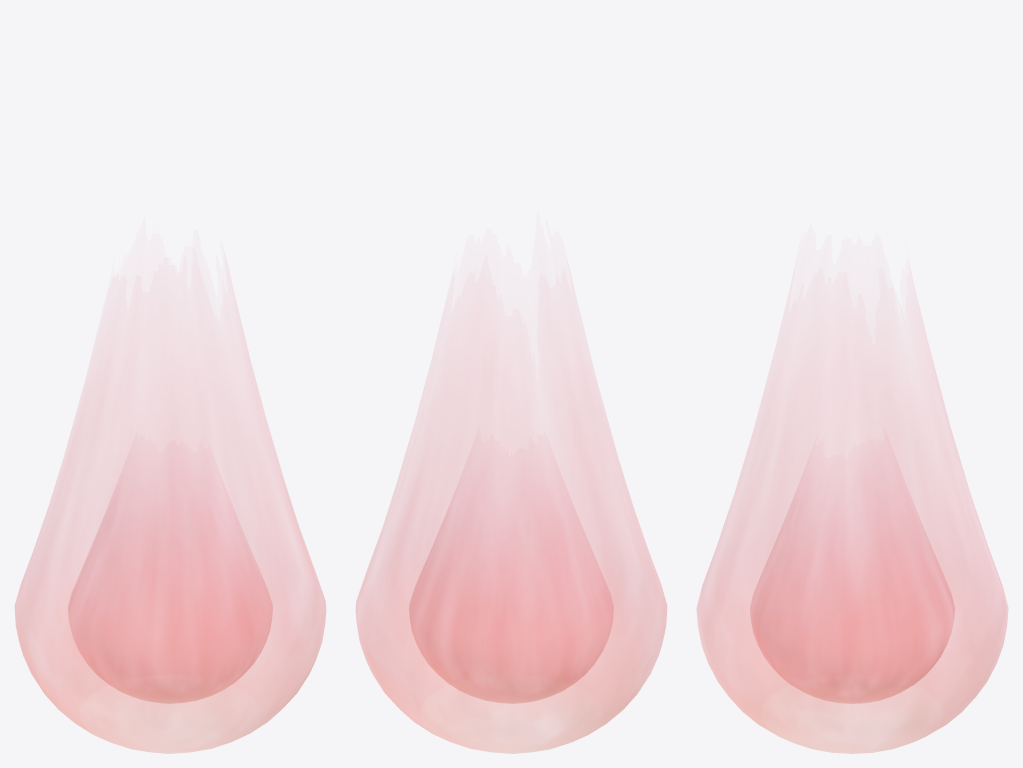
File: head_crimson.glb
3 views of the same model, side by side, from view 1: azimuth 30°, elevation 25°; view 2: azimuth 150°, elevation 25°; view 3: azimuth 270°, elevation 25° (orthographic).
Visible parts, largest first — view 1: head; view 2: head; view 3: head.
Part boxes in pixels (bbox=[...]): head: bbox=[15, 401, 325, 753]; head: bbox=[356, 404, 666, 753]; head: bbox=[697, 400, 1007, 753].
Size of the model in its own units: 3.5 by 8.96 by 3.5.
Materials: 2 (2 with a texture image).
